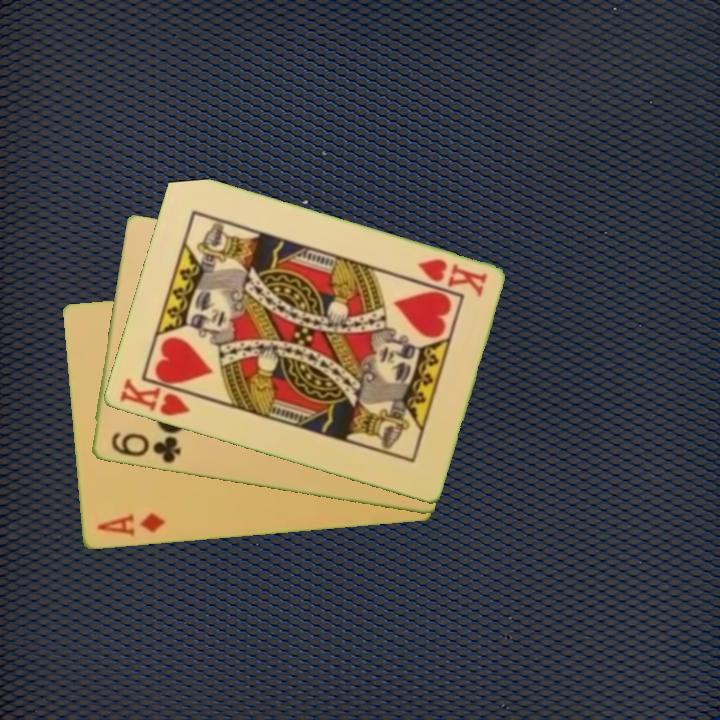6c: (107, 429, 184, 467)
Ad: (92, 510, 168, 540)
Kh: (115, 375, 201, 420), (413, 255, 490, 300)
